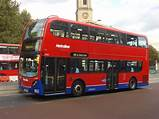bus: (23, 21, 150, 91)
